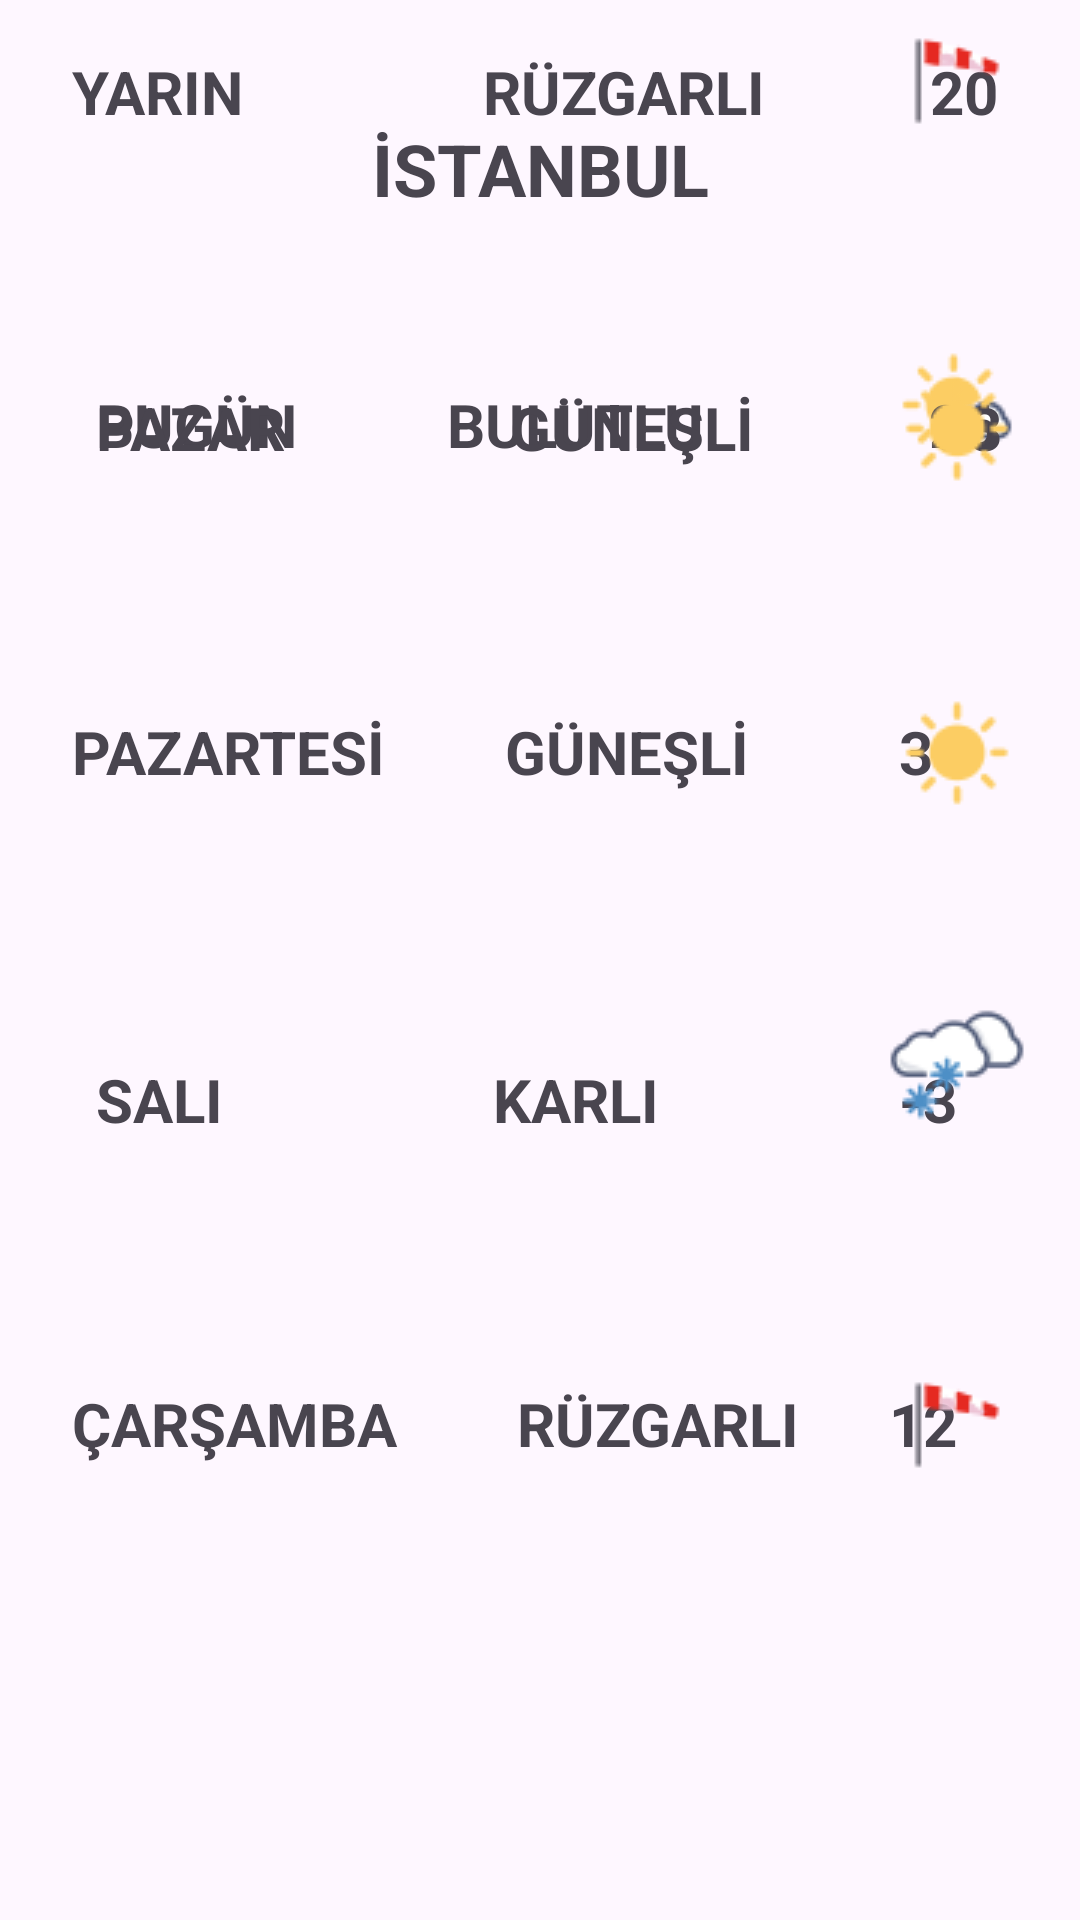

Named icons in this screenshot (1080w x 1920h) and their bounding boxes, (x1, y1, x2, y2):
ruzgarli: (914, 38, 1000, 124), (894, 1382, 1000, 1468)
